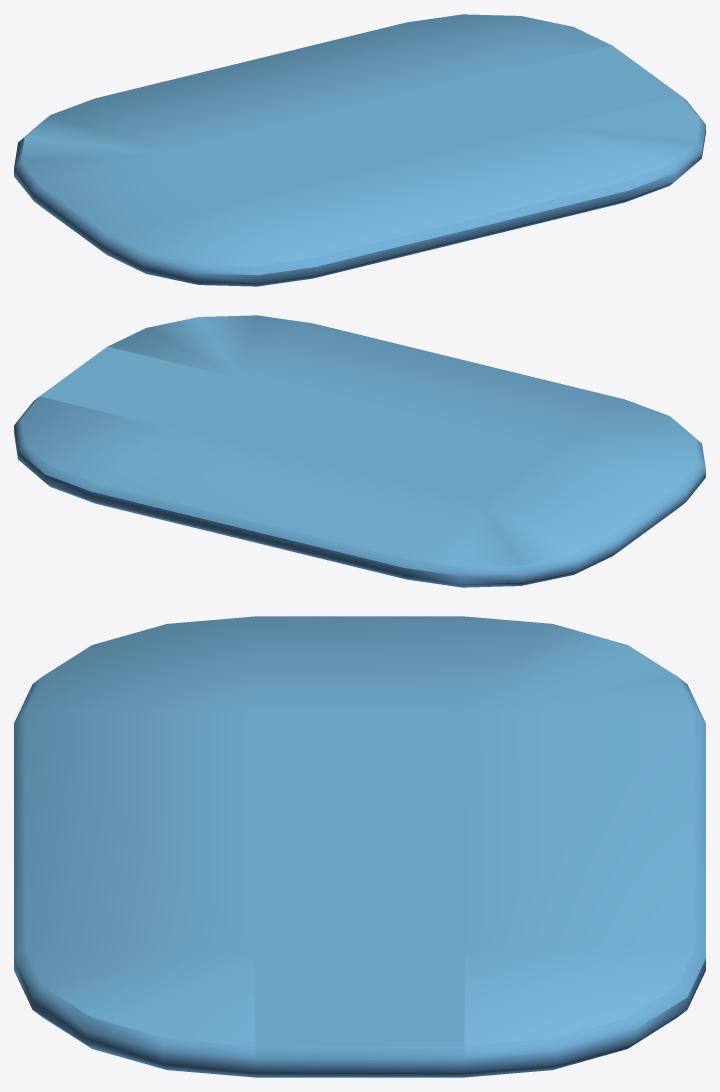
3 views of the same model, one above another, from view 1: azimuth 30°, elevation 25°; view 2: azimuth 150°, elevation 25°; view 3: azimuth 270°, elevation 25° (orthographic). The views are drawn at different scales.
Visible parts, largest first — view 1: rug_oval_B; view 2: rug_oval_B; view 3: rug_oval_B.
Part boxes in pixels (x1,y1,x2,y2): rug_oval_B: (14,14,705,286); rug_oval_B: (14,315,705,587); rug_oval_B: (14,616,705,1077).
Size of the model in its own units: 3 by 0.1 by 2.
1 material, 1 textured.
